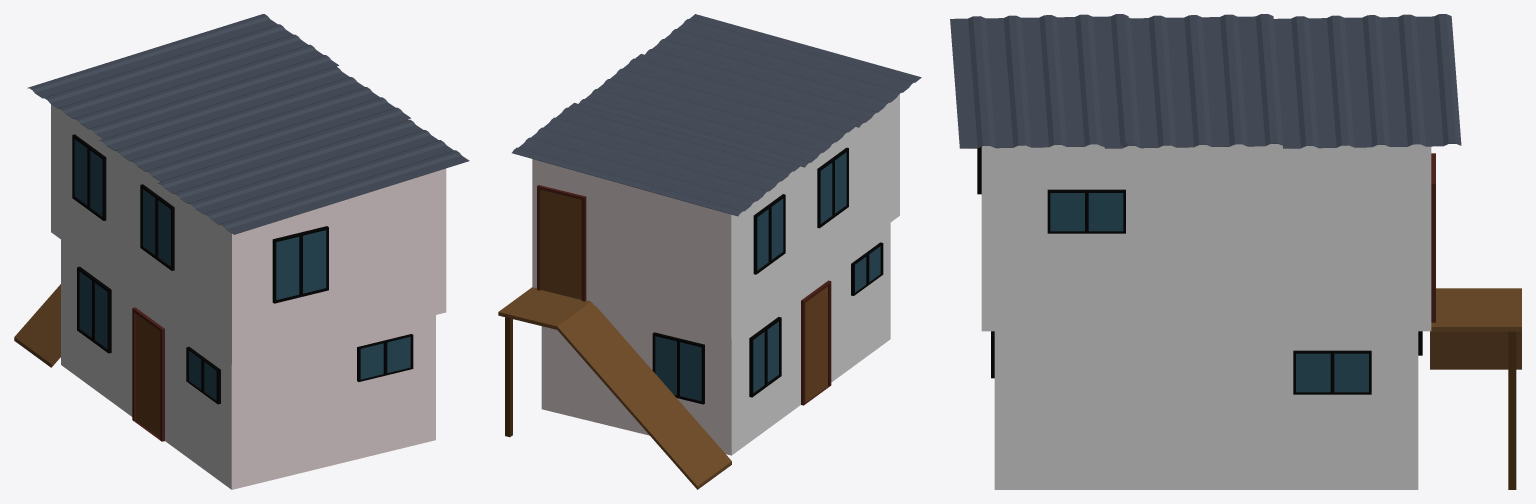
Rendered from Slum 1.fbx.
3 views of the same model, side by side, from view 1: azimuth 30°, elevation 25°; view 2: azimuth 150°, elevation 25°; view 3: azimuth 270°, elevation 25° (orthographic). The views are drawn at different scales.
Parts seen in each view (by area): view 1: Roof, 2nd Floor, 1st Floor, 2nd Floor.001, 1st Floor.012, Door, Window 1.006, Window 1, Window 1.031, Window 1.032, Ramp, Window 2.001 (+1 smaller); view 2: Roof, 2nd Floor, 2nd Floor.001, 1st Floor.012, Ramp, 1st Floor, Door.001, Door, Window 1.002, Window 1, Window 1.031, Window 1.032 (+2 smaller); view 3: 2nd Floor.001, Roof, 1st Floor.012, Ramp, Window 2.002, Window 2.003, Wood 1, Door.001.
Part boxes in pixels (x1,y1,x2,y2): Roof: [27, 14, 469, 234]; 2nd Floor: [232, 168, 446, 364]; 1st Floor: [231, 315, 435, 489]; 2nd Floor.001: [51, 104, 231, 364]; 1st Floor.012: [61, 240, 231, 489]; Door: [132, 307, 164, 441]; Window 1.006: [272, 226, 328, 303]; Window 1: [77, 266, 111, 353]; Window 1.031: [72, 134, 106, 220]; Window 1.032: [140, 184, 174, 270]; Ramp: [14, 284, 60, 367]; Window 2.001: [357, 334, 413, 381]; Roof: [512, 14, 921, 216]; 2nd Floor: [532, 159, 731, 338]; 2nd Floor.001: [731, 94, 899, 338]; 1st Floor.012: [731, 223, 890, 455]; Ramp: [498, 287, 731, 489]; 1st Floor: [541, 306, 731, 455]; Door.001: [537, 185, 586, 301]; Door: [801, 280, 831, 405]; Window 1.002: [652, 332, 704, 404]; Window 1: [749, 317, 781, 397]; Window 1.031: [753, 194, 785, 274]; Window 1.032: [817, 147, 848, 228]; 2nd Floor.001: [981, 144, 1431, 331]; Roof: [950, 14, 1461, 148]; 1st Floor.012: [994, 331, 1418, 489]; Ramp: [1430, 288, 1521, 369]; Window 2.002: [1293, 350, 1371, 394]; Window 2.003: [1047, 189, 1125, 233]; Wood 1: [1508, 331, 1516, 489]; Door.001: [1431, 153, 1435, 322].
Bounding box in the file's own units: 522 × 595 × 852.
